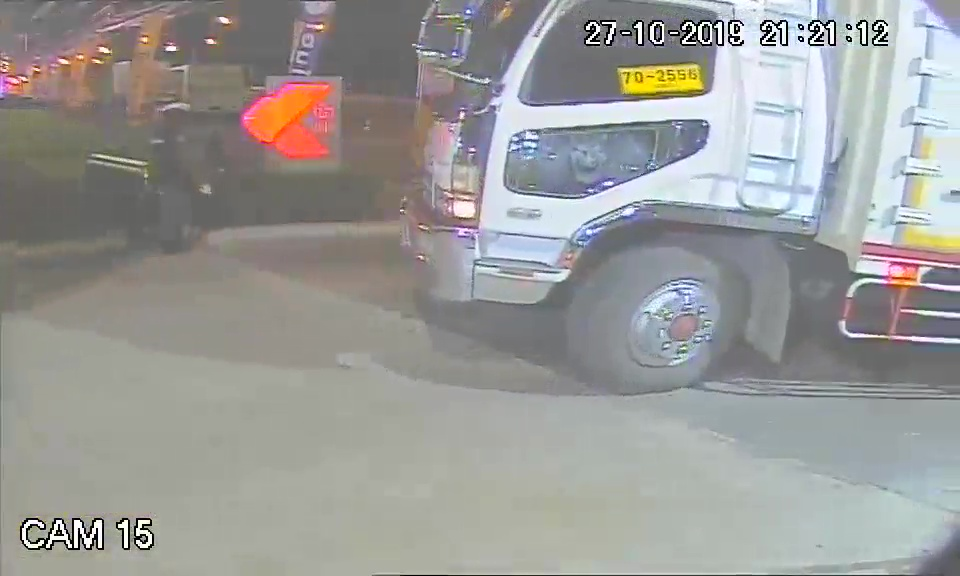truck: (395, 3, 825, 397)
